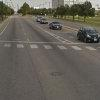Crosswalk: (1, 33, 82, 62)
